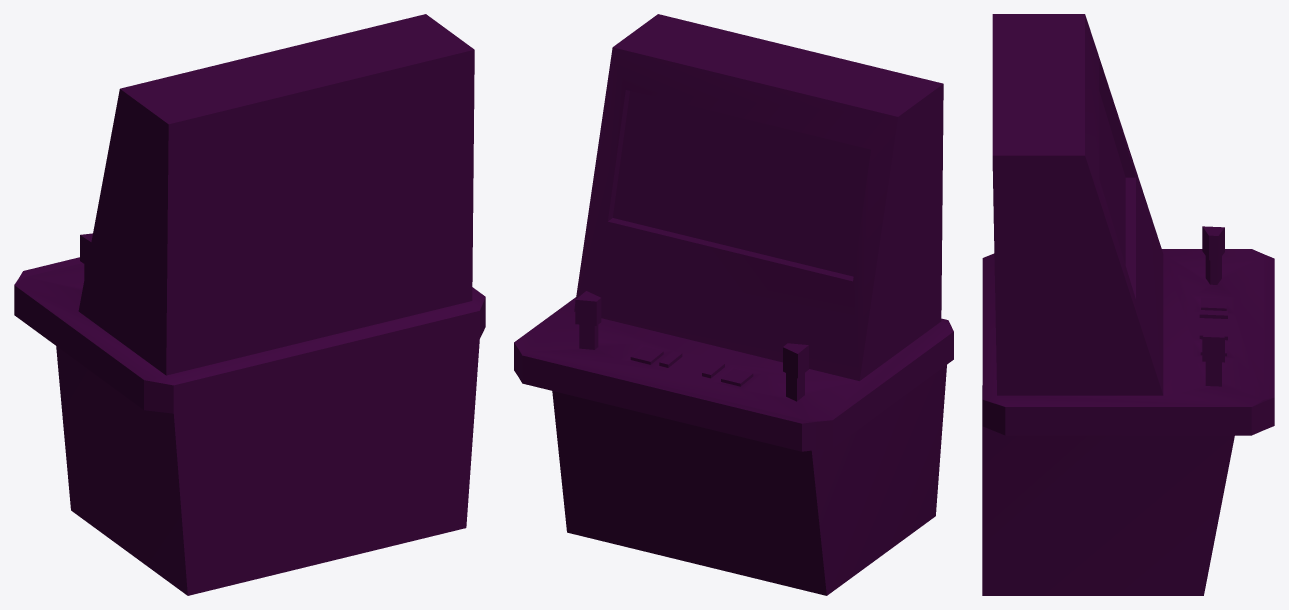
The model's file is WackArcadeMachine.fbx.
3 views of the same model, side by side, from view 1: azimuth 30°, elevation 25°; view 2: azimuth 150°, elevation 25°; view 3: azimuth 270°, elevation 25° (orthographic). The views are drawn at different scales.
Parts seen in each view (by area): view 1: Box005; view 2: Box005; view 3: Box005.
Boxes of the visible parts, box(x1,y1,x2,y2) form: Box005: box(14, 14, 485, 595); Box005: box(514, 14, 953, 595); Box005: box(982, 14, 1274, 595).
Bounding box in the file's own units: 53.29 × 70.21 × 41.66.
